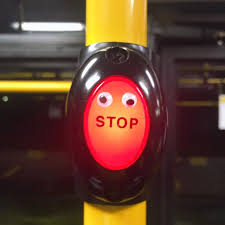bell: (63, 46, 171, 208)
